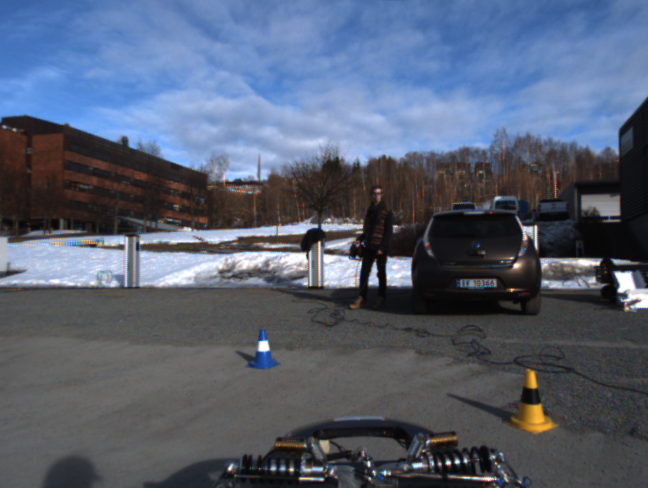cone-small-blue: (246, 328, 280, 369)
cone-small-yellow: (503, 368, 560, 435)
